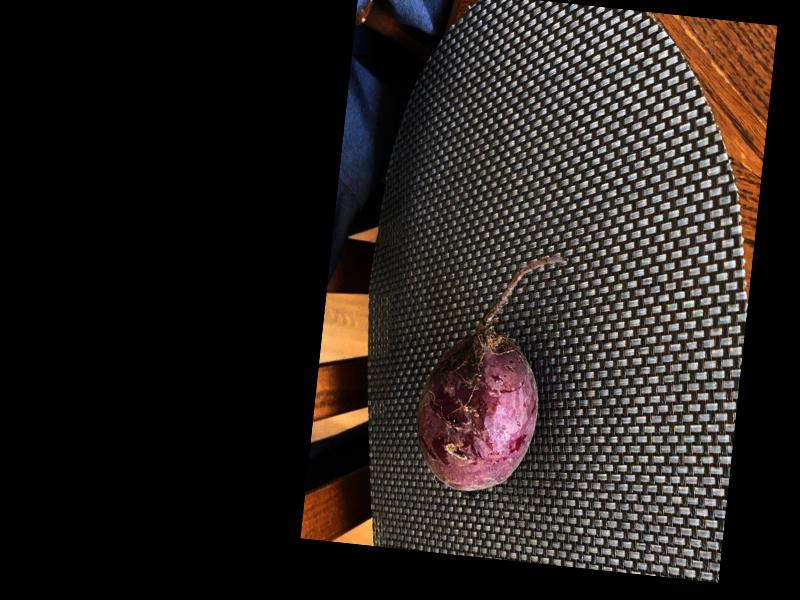Beet: (409, 242, 567, 496)
